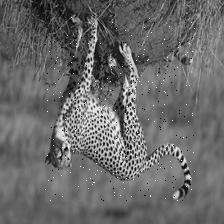Cheetha: (46, 15, 196, 200)
